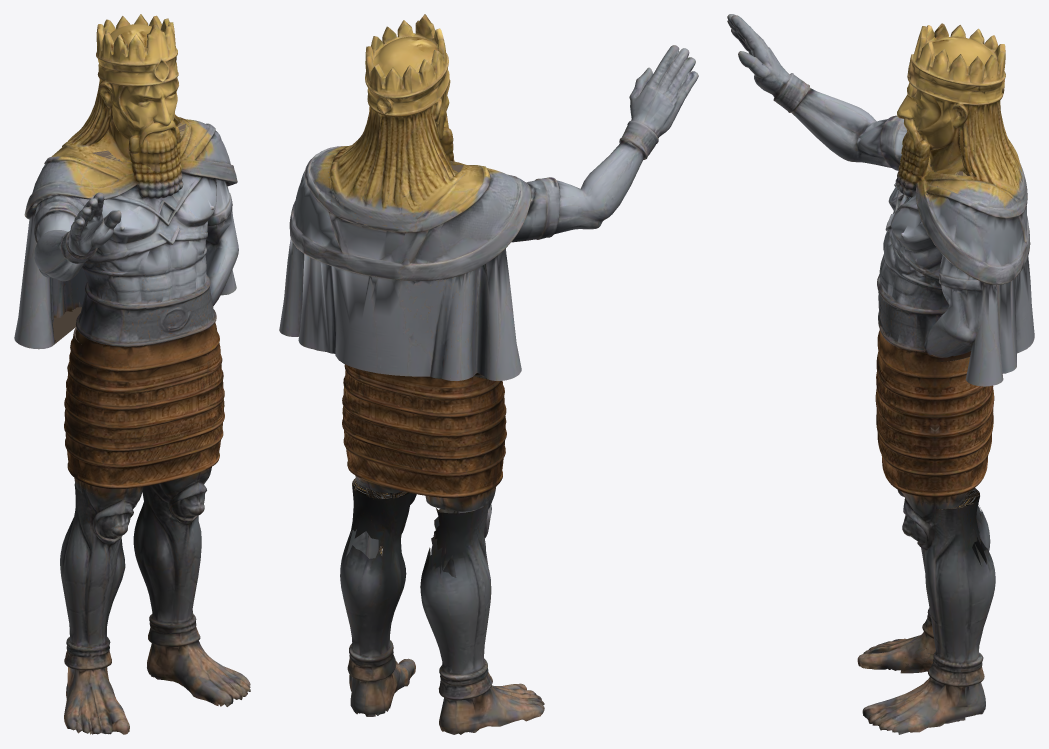
The model's file is statue_lod.glb.
3 views of the same model, side by side, from view 1: azimuth 30°, elevation 25°; view 2: azimuth 150°, elevation 25°; view 3: azimuth 270°, elevation 25° (orthographic). The views are drawn at different scales.
Visible parts, largest first — view 1: chest_silver, belly_bronze, legs_iron, head_gold, feet_clay, chest_silver_cap; view 2: chest_silver, legs_iron, belly_bronze, head_gold, feet_clay; view 3: chest_silver, belly_bronze, head_gold, legs_iron, feet_clay.
Part boxes in pixels (x1,y1,x2,y2): chest_silver: [14, 117, 238, 349]; belly_bronze: [54, 306, 224, 496]; legs_iron: [60, 467, 211, 650]; head_gold: [78, 14, 198, 187]; feet_clay: [64, 614, 250, 734]; chest_silver_cap: [52, 119, 198, 345]; chest_silver: [279, 45, 698, 380]; legs_iron: [340, 476, 495, 673]; belly_bronze: [342, 364, 506, 505]; head_gold: [346, 14, 467, 205]; feet_clay: [347, 643, 544, 734]; chest_silver: [727, 14, 1034, 432]; belly_bronze: [875, 330, 994, 503]; head_gold: [897, 23, 1021, 195]; legs_iron: [897, 488, 995, 662]; feet_clay: [857, 612, 985, 734].
Bounding box in the file's own units: 0.44 × 1 × 0.4158.
Materials: 1 (1 with a texture image).
